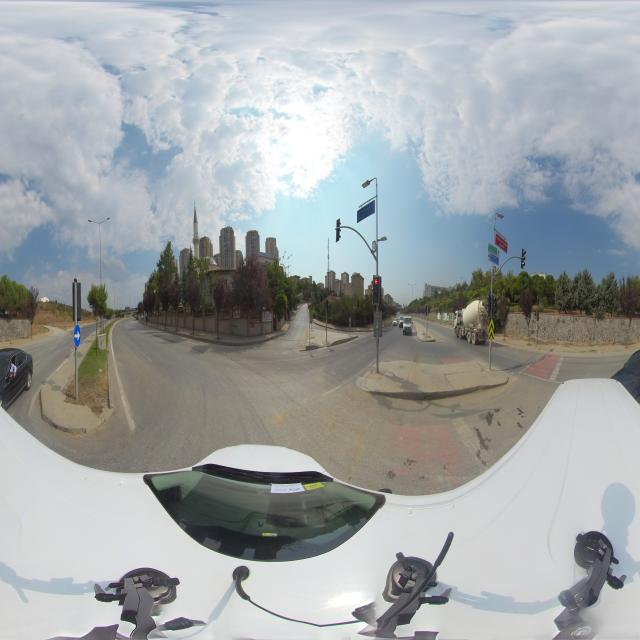SignStore: (263, 312, 272, 322)
